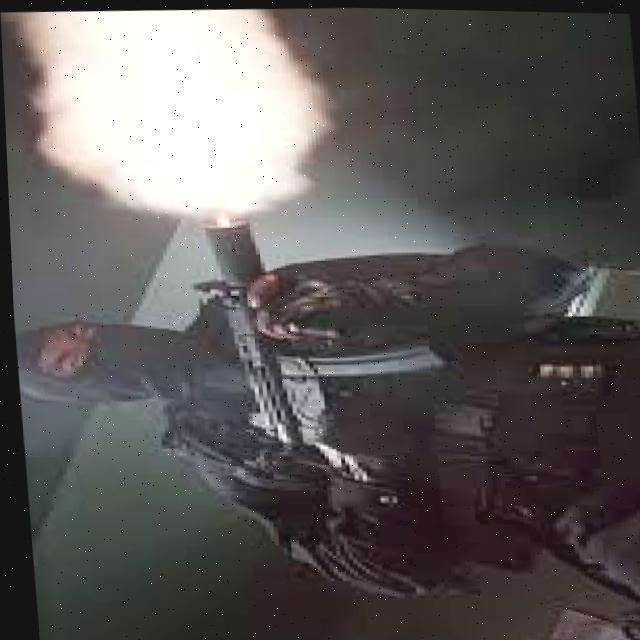firearm: (179, 204, 463, 450)
